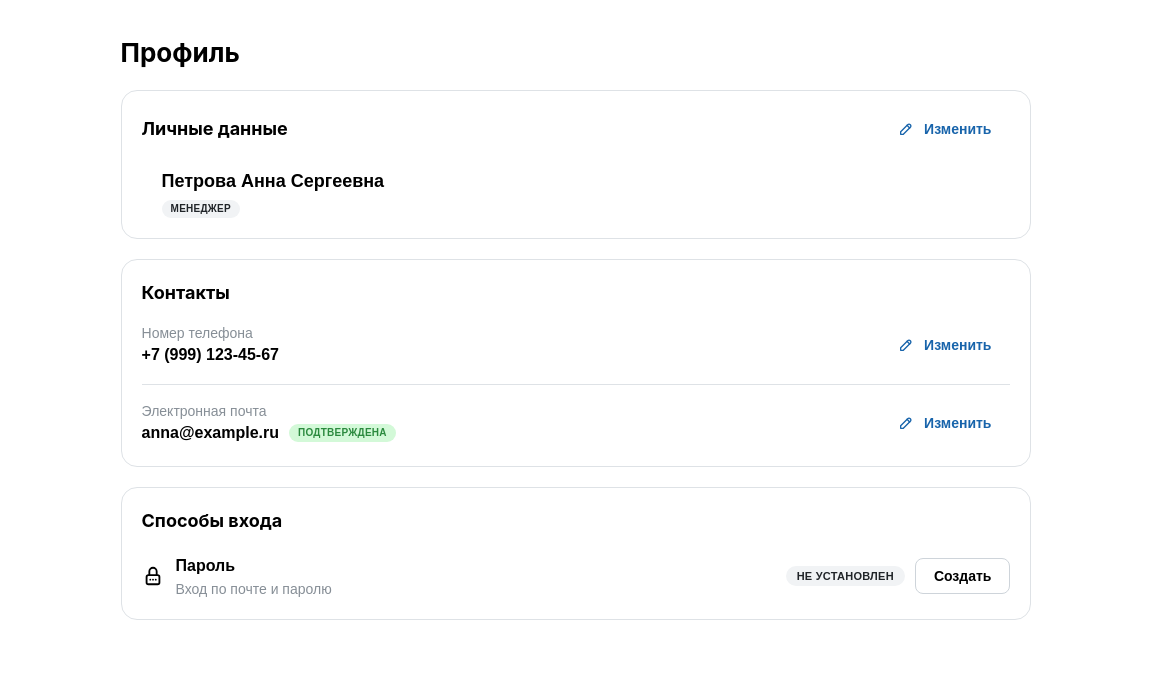
it: показывает профиль для просмотра и сохраняет отдельные части имени
Expected: the text "Петрова Анна Сергеевна" is shown, [162, 167, 384, 195]
Expected: the field labelled "Фамилия" is not shown
Click the button "Изменить" in the row of "Личные данные" at (948, 129), box [885, 111, 1010, 147]
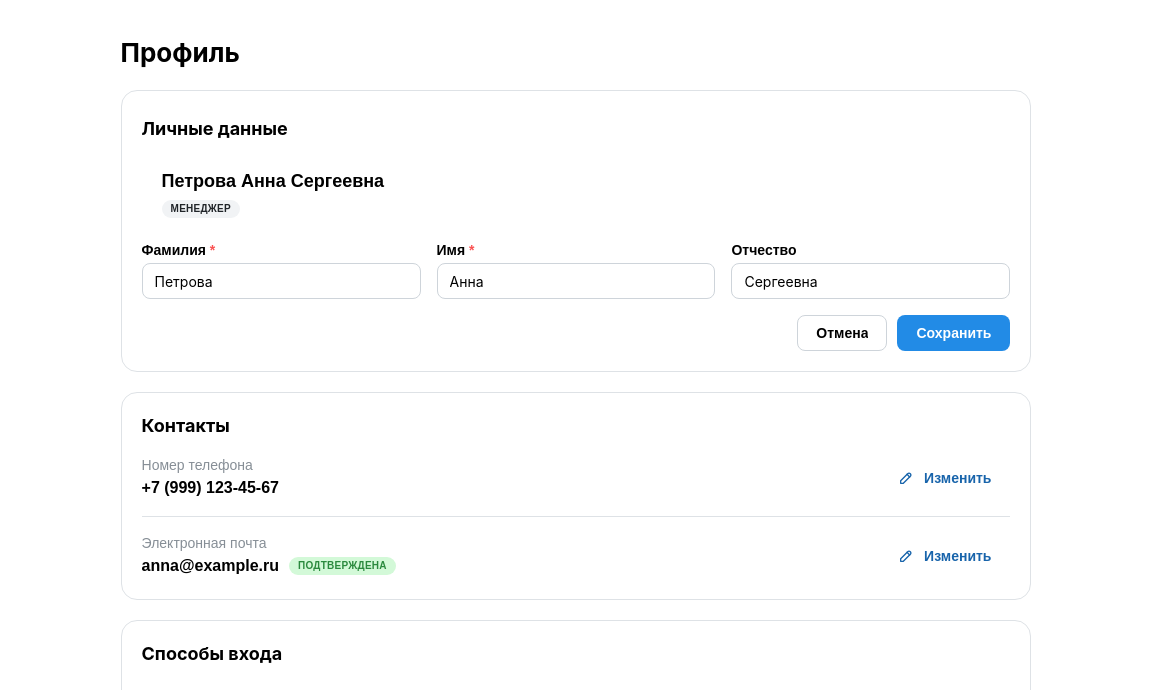
Type "Иванова" into the field labelled "Фамилия" at (281, 281), box [142, 263, 420, 299]
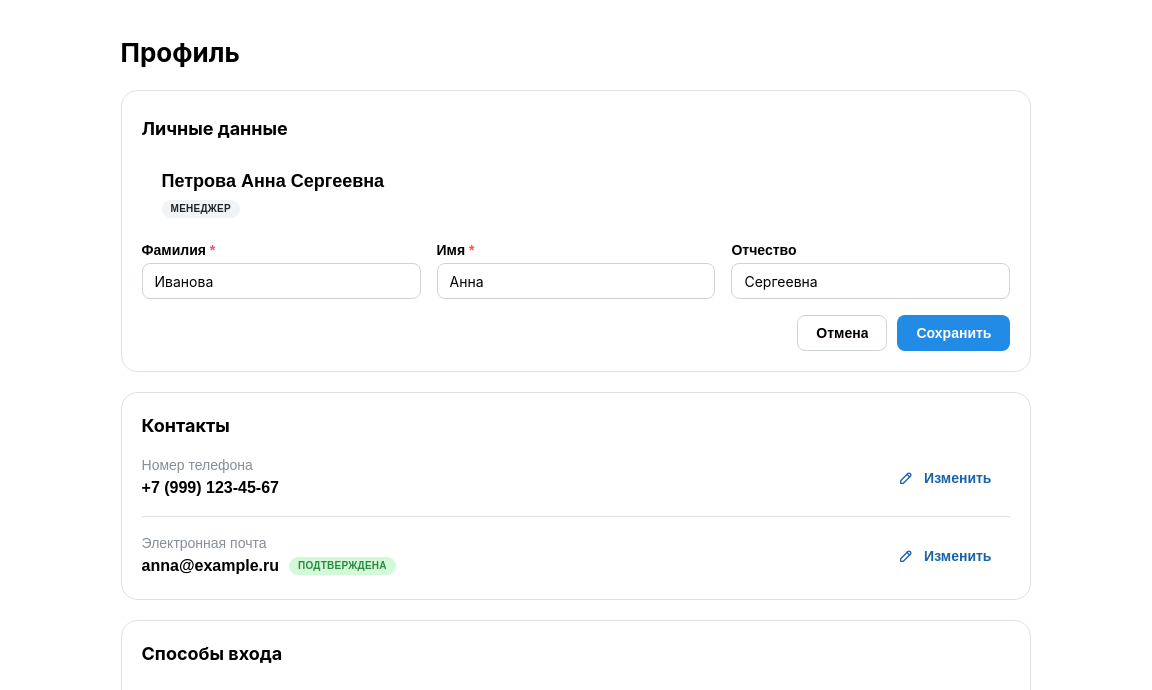
Clear the field labelled "Отчество" at (871, 281), box [732, 263, 1010, 299]
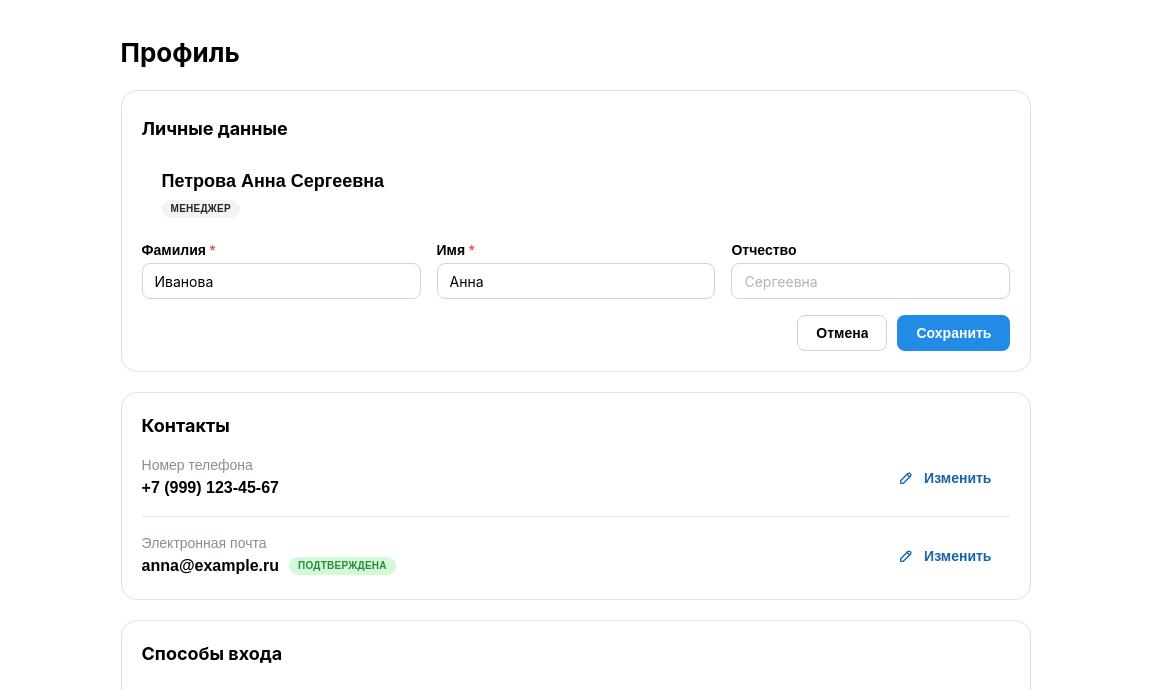
Click the button "Сохранить" at (954, 333), box [898, 315, 1010, 351]
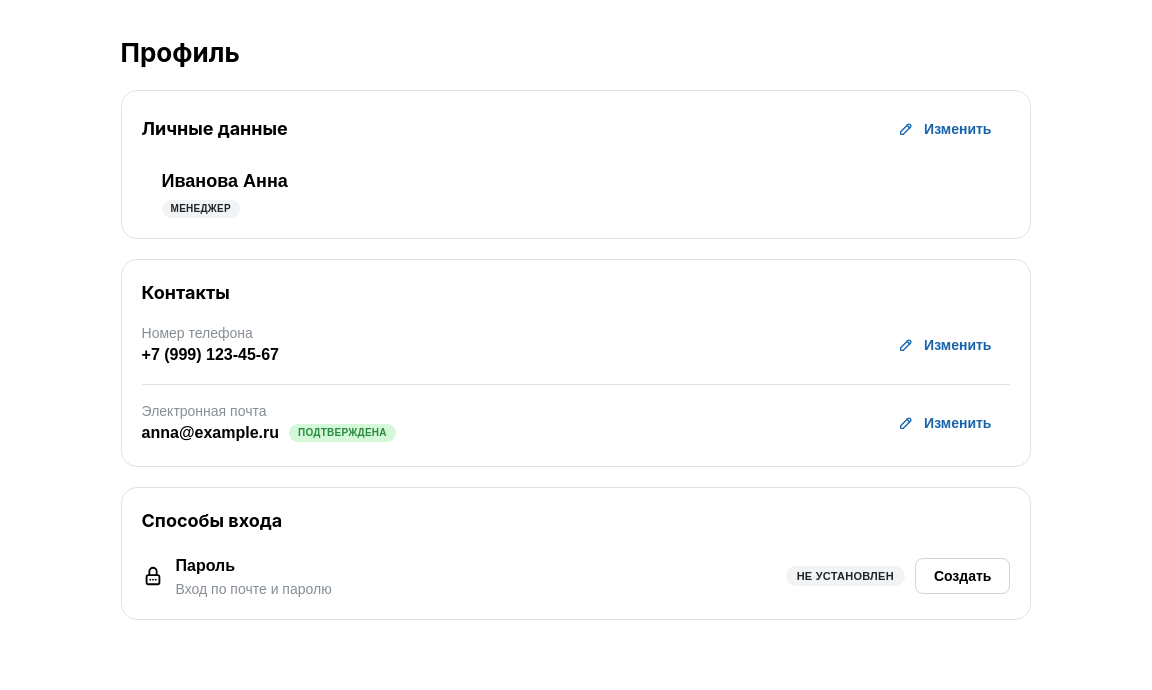
Expected: the text "Иванова Анна" is shown, [162, 167, 288, 195]
Expected: the label "Фамилия" is gone
